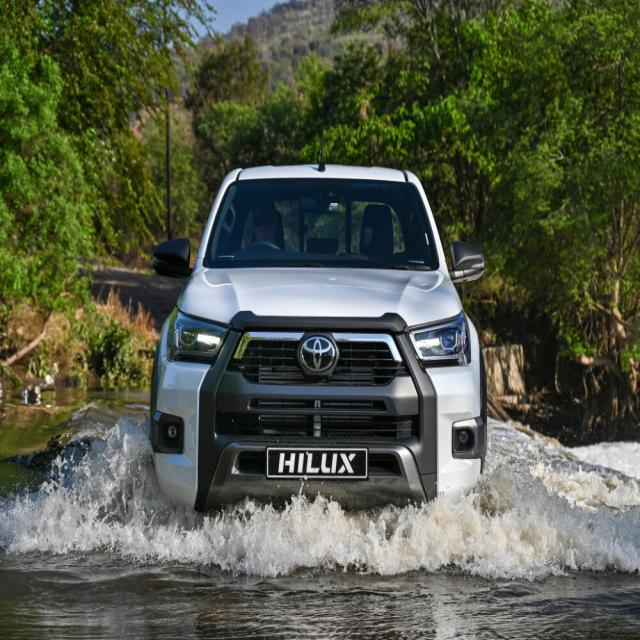Pickup Trucks: (152, 162, 488, 524)
